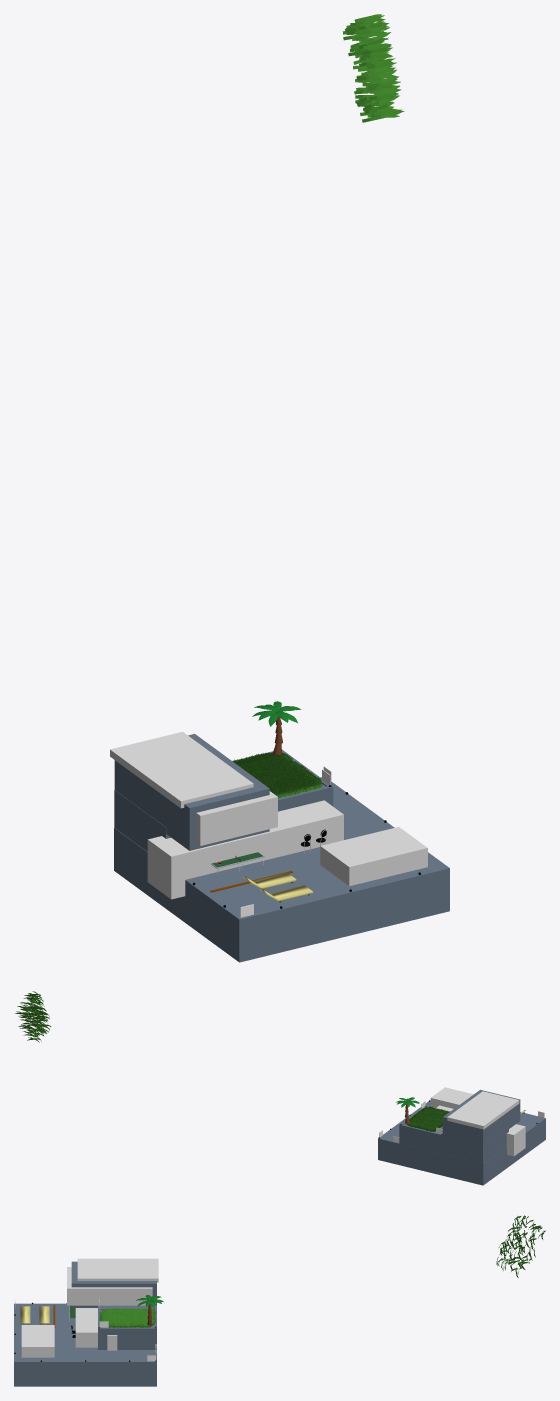
Rendered from Villa.gltf.
The picture shows the model from 3 angles, top to bottom: view 1: azimuth 30°, elevation 25°; view 2: azimuth 150°, elevation 25°; view 3: azimuth 270°, elevation 25°; orthographic projection. The views are drawn at different scales.
Visible parts, largest first — view 1: Plane.029, Cube.002, Cube.005, Cube.003, Cube.001, Plane.059, Cube.004, Plane.001; view 2: Plane.029, Plane.001, Cube.003, Cube.005, Plane.059, Cube.001, Cube.002; view 3: Plane.029, Cube.005, Cube.004, Plane.001, Cube.001, Plane.059, Cube.002, Cube.003.
Part boxes in pixels (bbox=[...]): Plane.029: bbox=[114, 777, 449, 962]; Cube.002: bbox=[147, 800, 343, 899]; Cube.005: bbox=[110, 731, 253, 808]; Cube.003: bbox=[114, 734, 269, 850]; Cube.001: bbox=[320, 827, 427, 886]; Plane.059: bbox=[342, 14, 404, 122]; Cube.004: bbox=[196, 791, 277, 845]; Plane.001: bbox=[114, 749, 333, 851]; Plane.029: bbox=[378, 1100, 545, 1185]; Plane.001: bbox=[399, 1106, 508, 1163]; Cube.003: bbox=[442, 1089, 520, 1148]; Cube.005: bbox=[447, 1091, 519, 1129]; Plane.059: bbox=[15, 991, 51, 1042]; Cube.001: bbox=[430, 1087, 473, 1108]; Cube.002: bbox=[436, 1105, 525, 1156]; Plane.029: bbox=[14, 1303, 156, 1386]; Cube.005: bbox=[77, 1258, 158, 1282]; Cube.004: bbox=[67, 1267, 152, 1305]; Plane.001: bbox=[98, 1304, 156, 1349]; Cube.001: bbox=[21, 1325, 54, 1357]; Plane.059: bbox=[496, 1215, 545, 1277]; Cube.002: bbox=[75, 1308, 97, 1347]; Cube.003: bbox=[71, 1261, 156, 1307].
Size of what is drawn, in the model's own units: 29.95 by 22.3 by 39.55.
